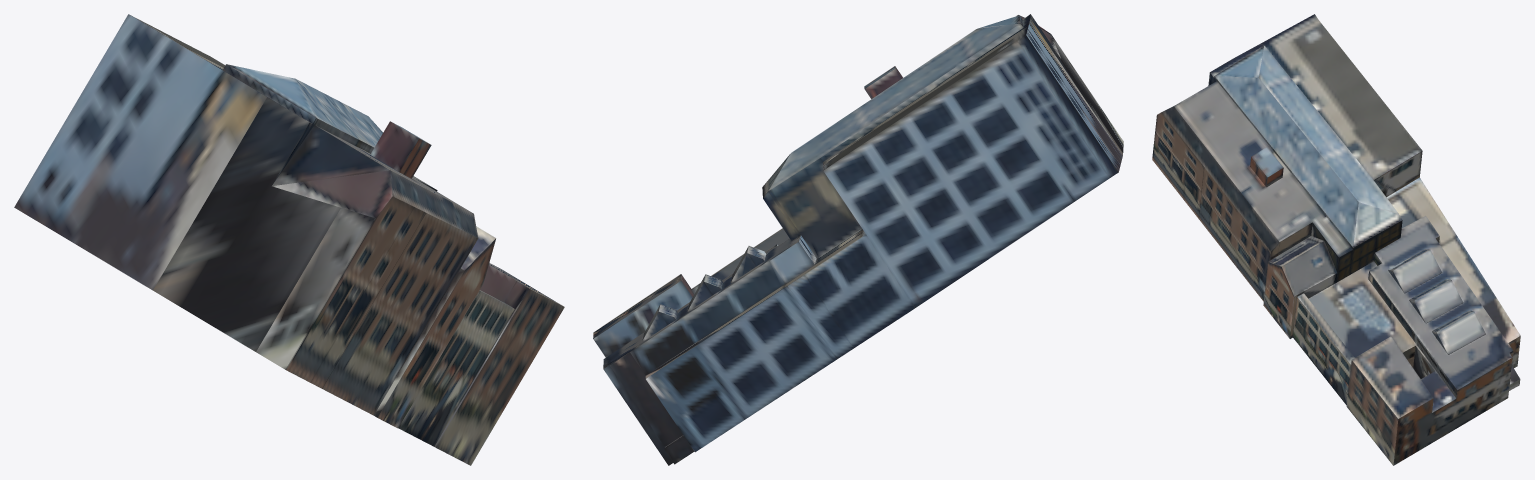
3 views of the same model, side by side, from view 1: azimuth 30°, elevation 25°; view 2: azimuth 150°, elevation 25°; view 3: azimuth 270°, elevation 25° (orthographic). The views are drawn at different scales.
Visible parts, largest first — view 1: BAG_0599100000760345 (×6); view 2: BAG_0599100000760345 (×6); view 3: BAG_0599100000760345 (×7).
Part boxes in pixels (x1,y1,x2,y2): BAG_0599100000760345 (×6): [14, 14, 564, 465]; BAG_0599100000760345 (×6): [593, 14, 1123, 465]; BAG_0599100000760345 (×7): [1152, 14, 1520, 465].
Bounding box in the file's own units: 49.35 × 45.16 × 44.5.
1 material, 1 textured.
